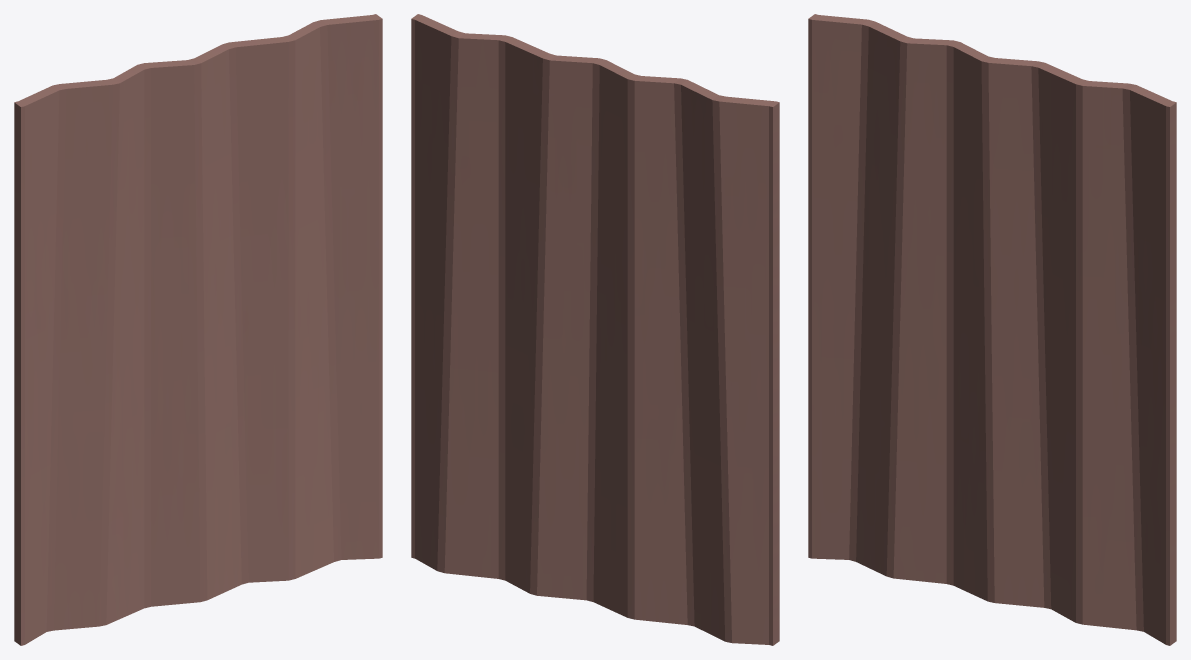
The model's file is metal_board_2.glb.
3 renders of one model, left to right at view 1: azimuth 30°, elevation 25°; view 2: azimuth 150°, elevation 25°; view 3: azimuth 330°, elevation 25°, orthographic.
Parts seen in each view (by area): view 1: metal_board_2; view 2: metal_board_2; view 3: metal_board_2.
Part boxes in pixels (box(x1,y1,x2,y2)): metal_board_2: box(14, 14, 382, 645); metal_board_2: box(411, 14, 779, 645); metal_board_2: box(808, 14, 1176, 645).
Size of the model in its own units: 1.11 by 1.58 by 0.076.
1 material, 1 textured.
